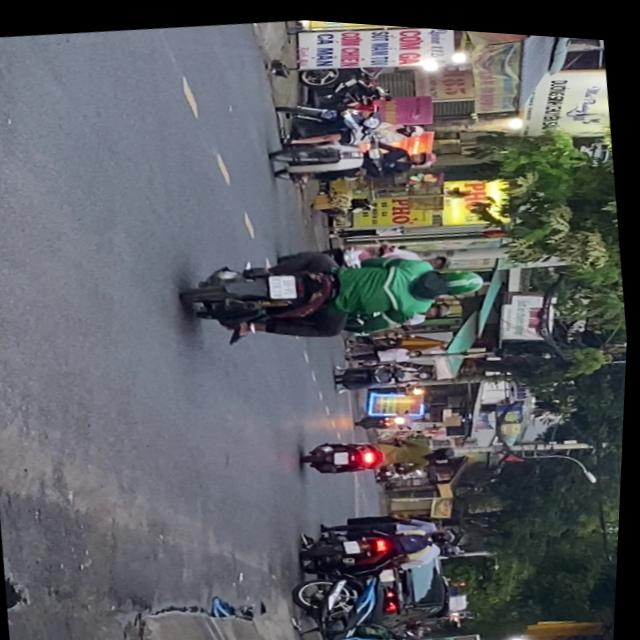helmet: (436, 257, 488, 293), (408, 142, 439, 161)
licenseplate: (178, 215, 495, 359), (266, 119, 443, 193)
nohelmet: (270, 269, 299, 296)
